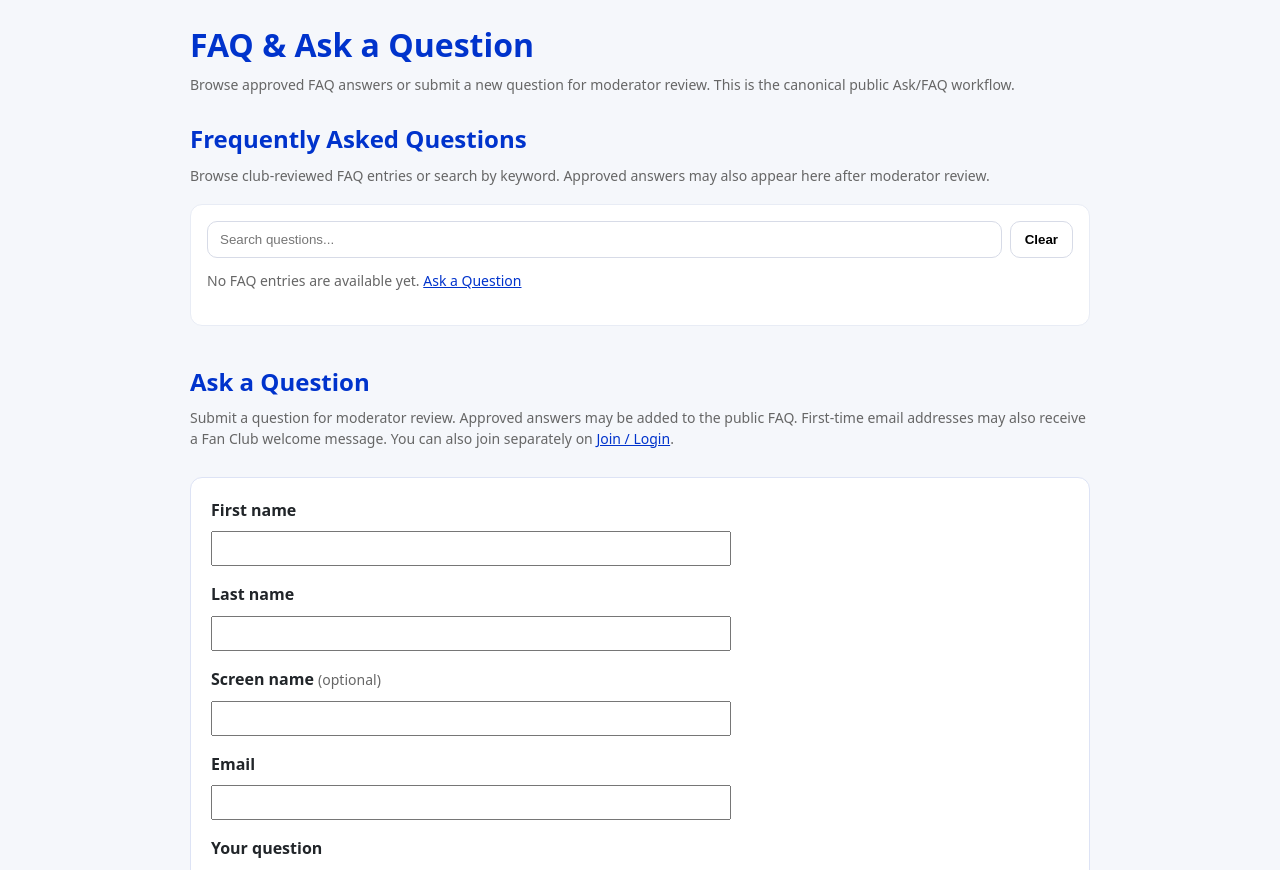
Test: Ask page (consolidated FAQ & Ask) › shows spec error message when submission fails
The image size is (1280, 870).
Type "Lou" into the field labelled "First name".
click(471, 549); type("Lou")  # box [211, 531, 731, 566]
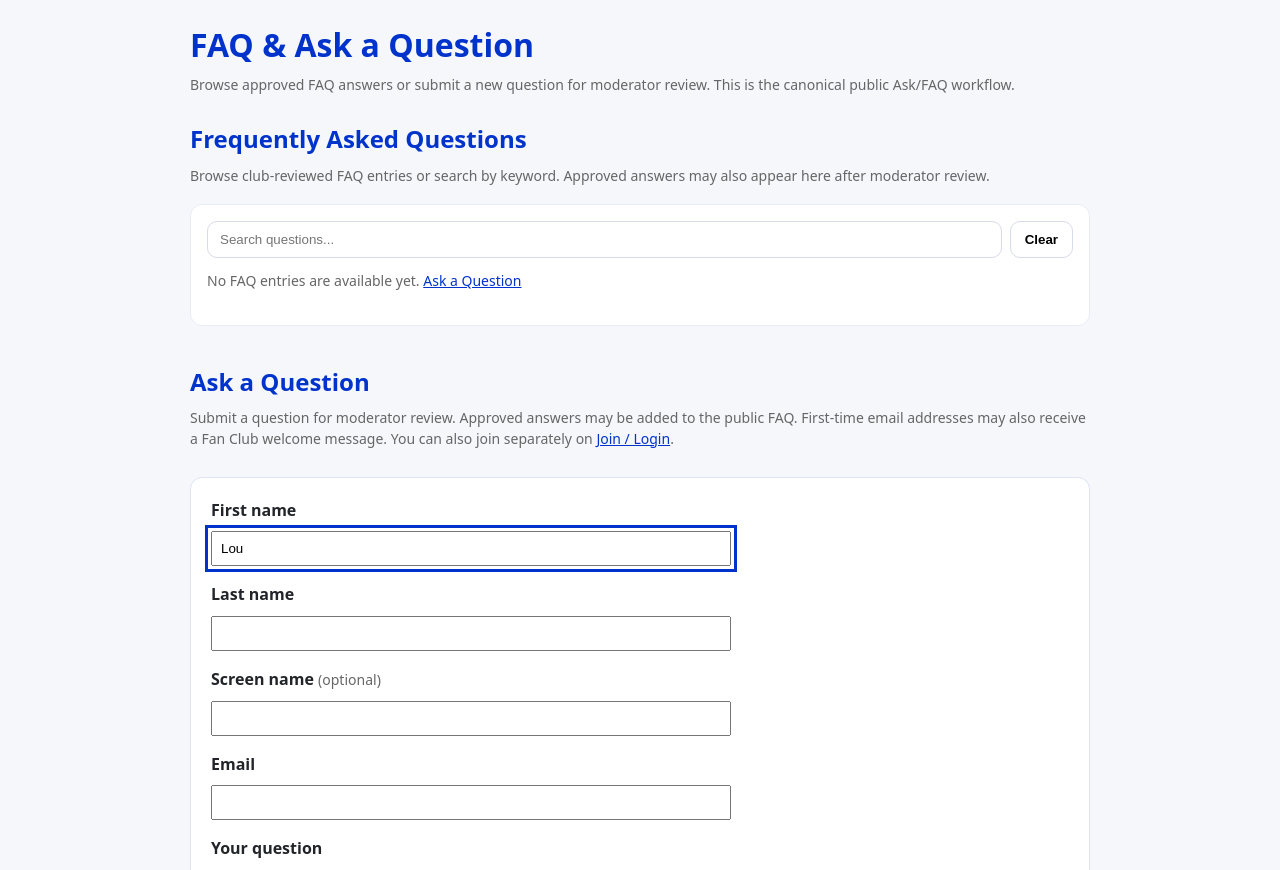
Type "Gehrig" into the field labelled "Last name".
click(471, 634); type("Gehrig")  # box [211, 616, 731, 651]
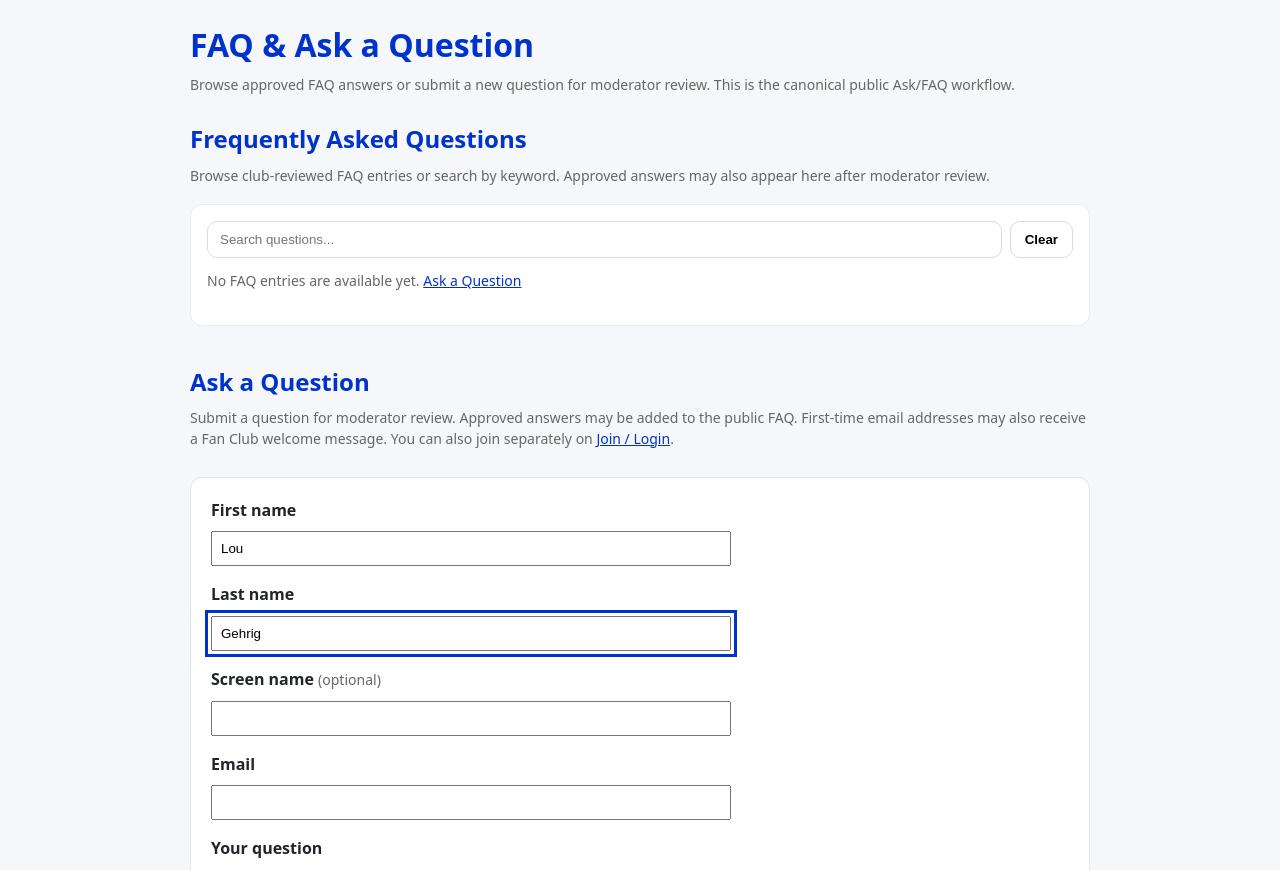
Type "fan@example.com" into the field labelled "Email".
click(471, 803); type("fan@example.com")  # box [211, 785, 731, 820]
(page scrolled)
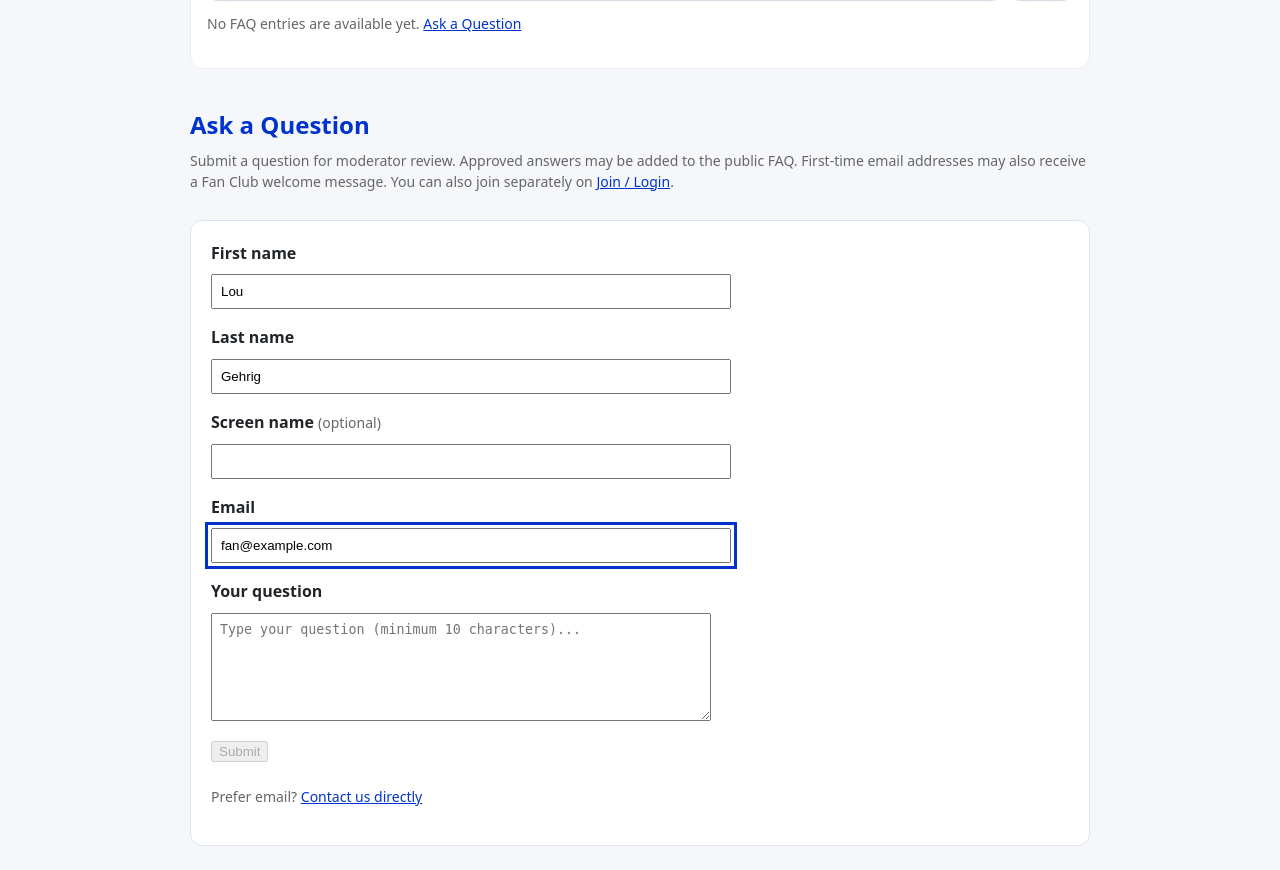
Type "How do I join the fan club online?" into the text box labelled "Your question".
click(461, 667); type("How do I join the fan club online?")  # box [211, 613, 711, 721]
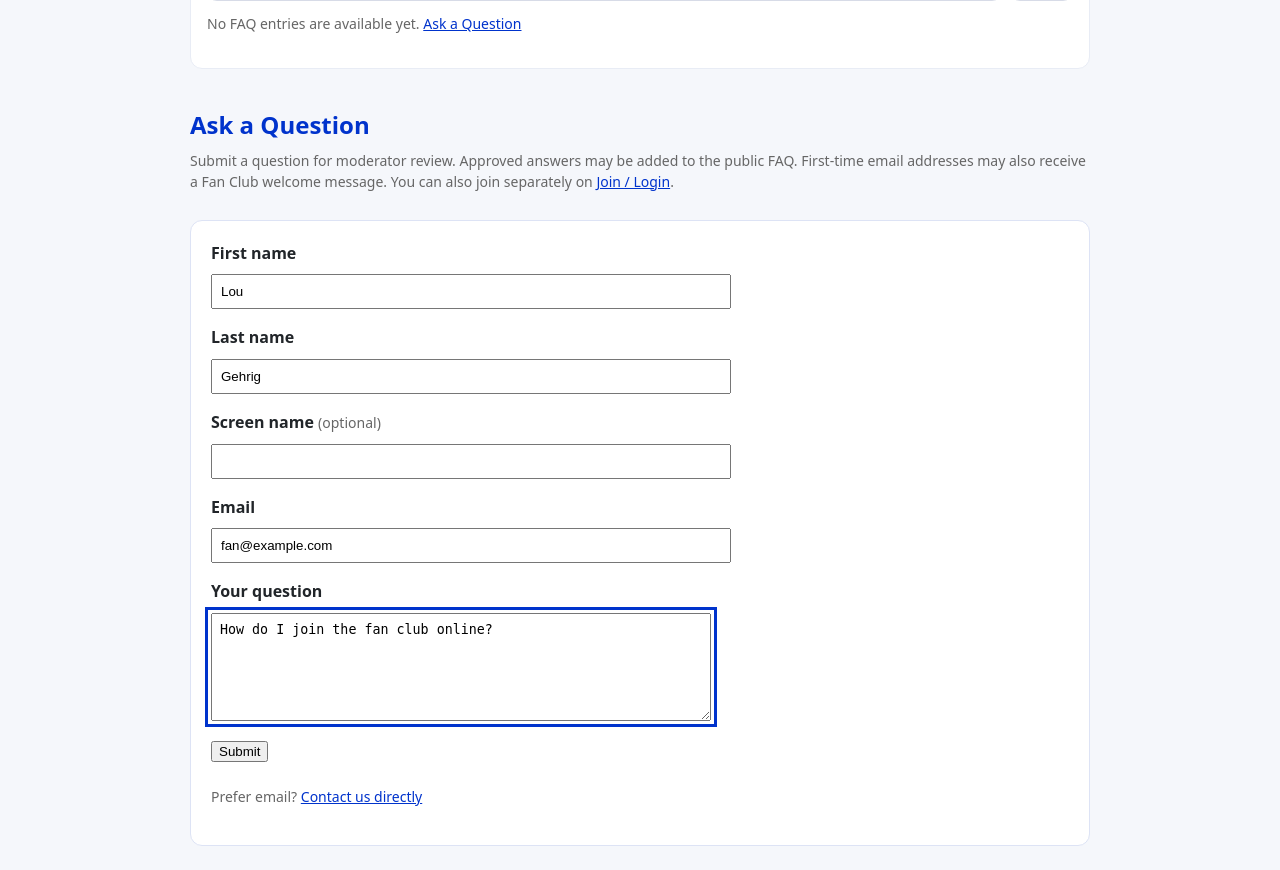
Click the button "Submit".
click(240, 751)  # box [211, 741, 268, 762]
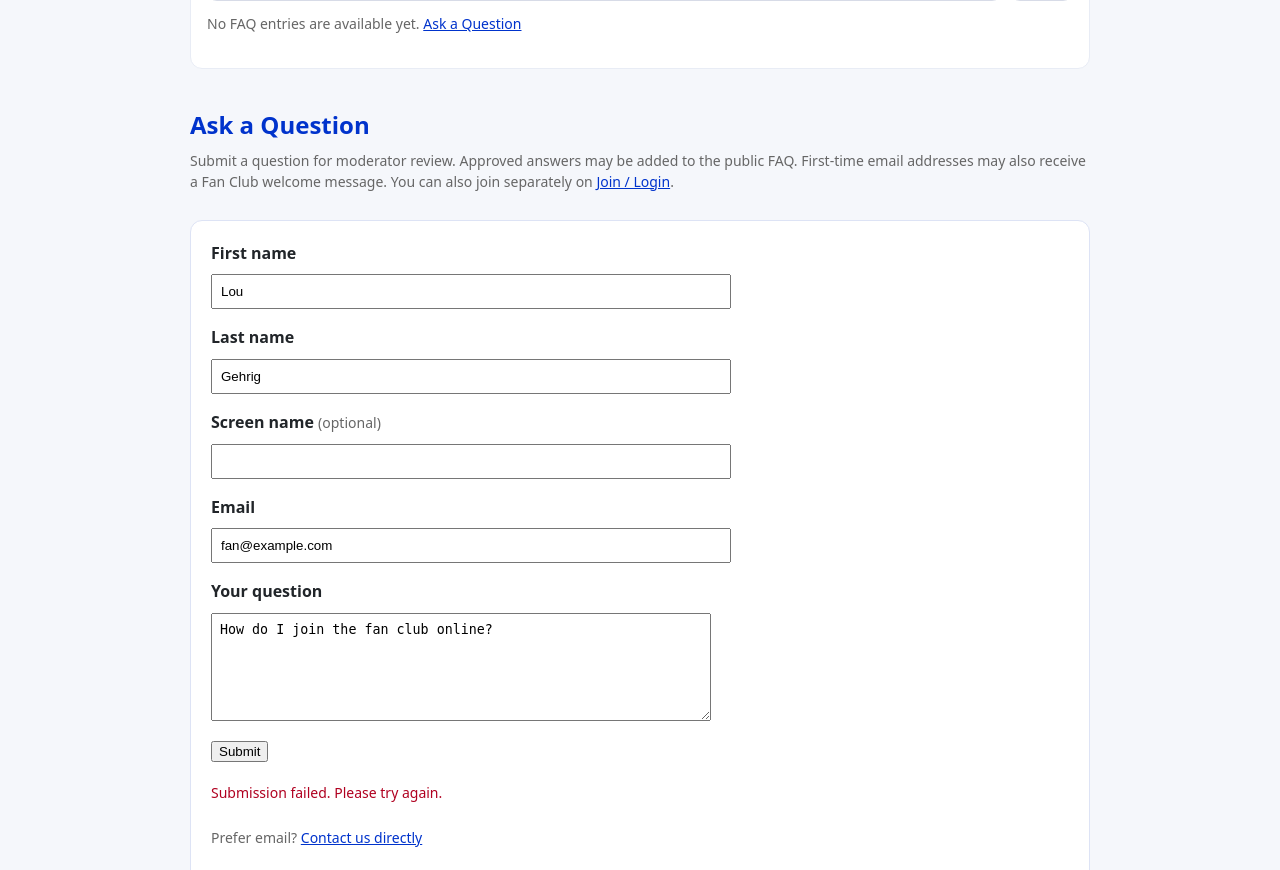
Check: the text "Submission failed. Please try again." is shown, box [211, 783, 442, 802]
